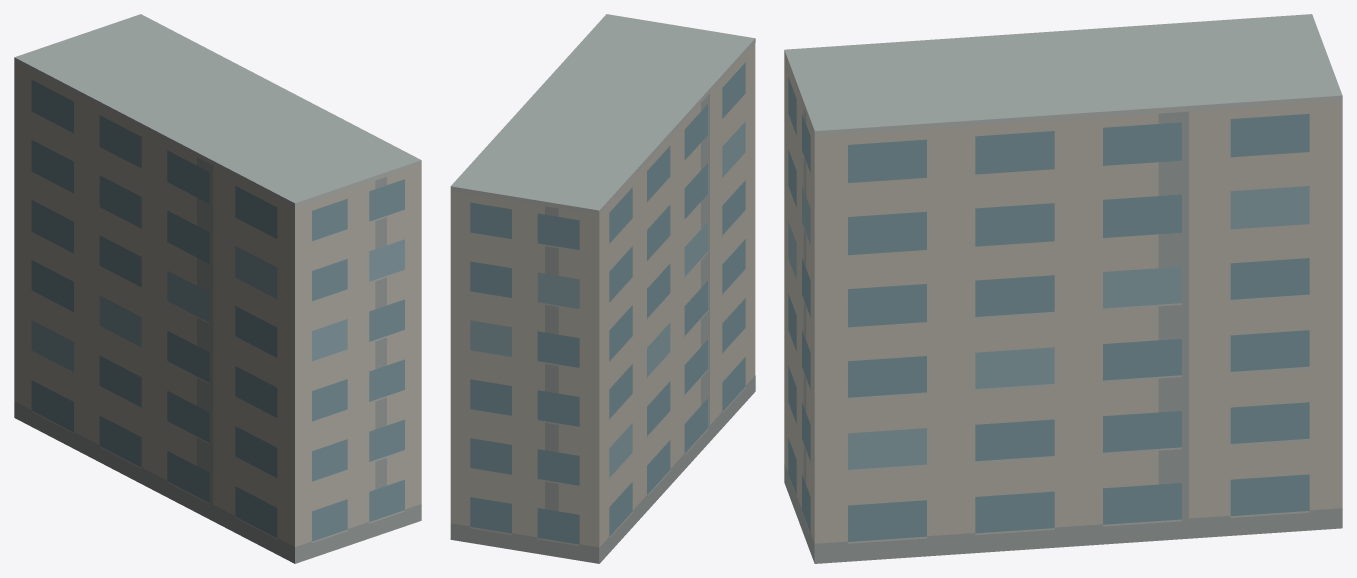
Rendered from survey-upis-32578820.glb.
The picture shows the model from 3 angles, left to right: view 1: azimuth 30°, elevation 25°; view 2: azimuth 150°, elevation 25°; view 3: azimuth 270°, elevation 25°; orthographic projection. The views are drawn at different scales.
Parts seen in each view (by area): view 1: survey-upis-32578820.tmp; view 2: survey-upis-32578820.tmp; view 3: survey-upis-32578820.tmp.
Boxes of the visible parts, x1,y1,x2,y2 form: survey-upis-32578820.tmp: [14, 14, 421, 563]; survey-upis-32578820.tmp: [450, 14, 755, 563]; survey-upis-32578820.tmp: [784, 14, 1342, 563].
Size of the model in its own units: 10.87 by 18.7 by 21.87.
